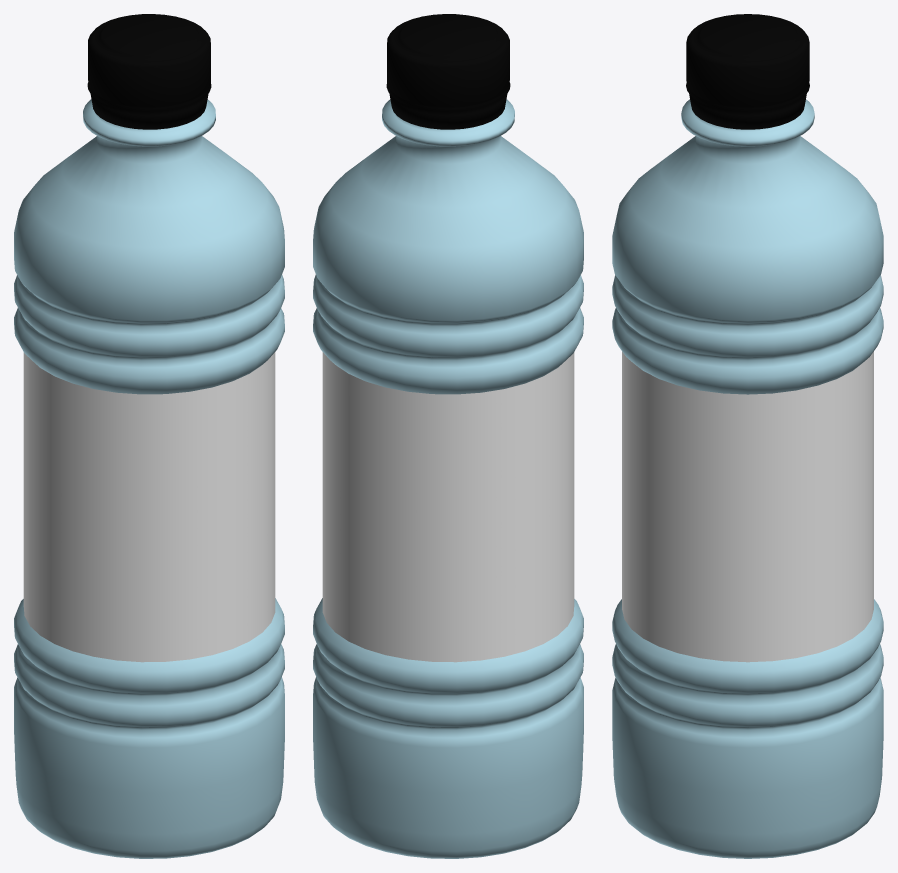
Rendered from bottle 2.glb.
The picture shows the model from 3 angles, left to right: view 1: azimuth 30°, elevation 25°; view 2: azimuth 150°, elevation 25°; view 3: azimuth 270°, elevation 25°; orthographic projection.
Visible parts, largest first — view 1: bottleBody, bottleLabel, bottleCap; view 2: bottleBody, bottleLabel, bottleCap; view 3: bottleBody, bottleLabel, bottleCap.
Boxes of the visible parts, <box> form: bottleBody: <box>14,99,284,858</box>; bottleLabel: <box>23,352,275,662</box>; bottleCap: <box>87,14,211,129</box>; bottleBody: <box>313,99,583,858</box>; bottleLabel: <box>322,352,574,662</box>; bottleCap: <box>386,14,510,129</box>; bottleBody: <box>612,99,883,858</box>; bottleLabel: <box>622,351,873,662</box>; bottleCap: <box>686,14,809,129</box>.
Bounding box in the file's own units: 1.32 × 4.16 × 1.32.
